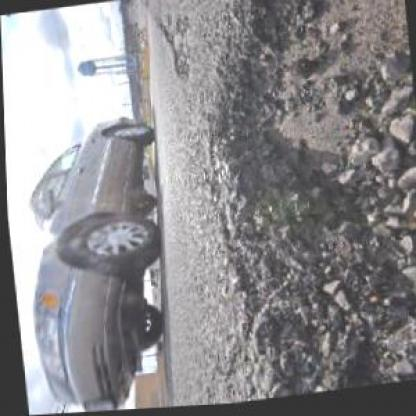pothole: (170, 43, 192, 85)
